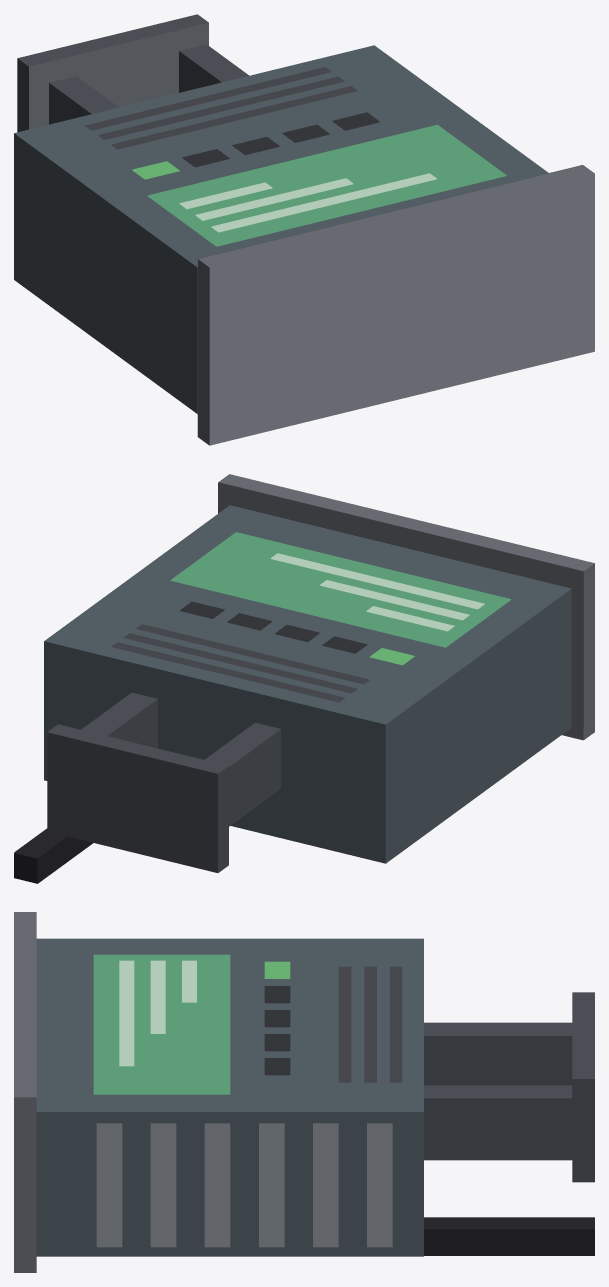
Rendered from controller_ground_mppt_on_S.obj.
3 views of the same model, one above another, from view 1: azimuth 30°, elevation 25°; view 2: azimuth 150°, elevation 25°; view 3: azimuth 270°, elevation 25° (orthographic). The views are drawn at different scales.
Parts seen in each view (by area): view 1: controller_ground_mppt_on_S; view 2: controller_ground_mppt_on_S; view 3: controller_ground_mppt_on_S.
Boxes of the visible parts, x1=… form: controller_ground_mppt_on_S: x1=14, y1=14, x2=594, y2=445; controller_ground_mppt_on_S: x1=14, y1=474, x2=594, y2=883; controller_ground_mppt_on_S: x1=14, y1=912, x2=594, y2=1272.
Size of the model in its own units: 0.77 by 0.37 by 1.02.
1 material, 1 textured.
